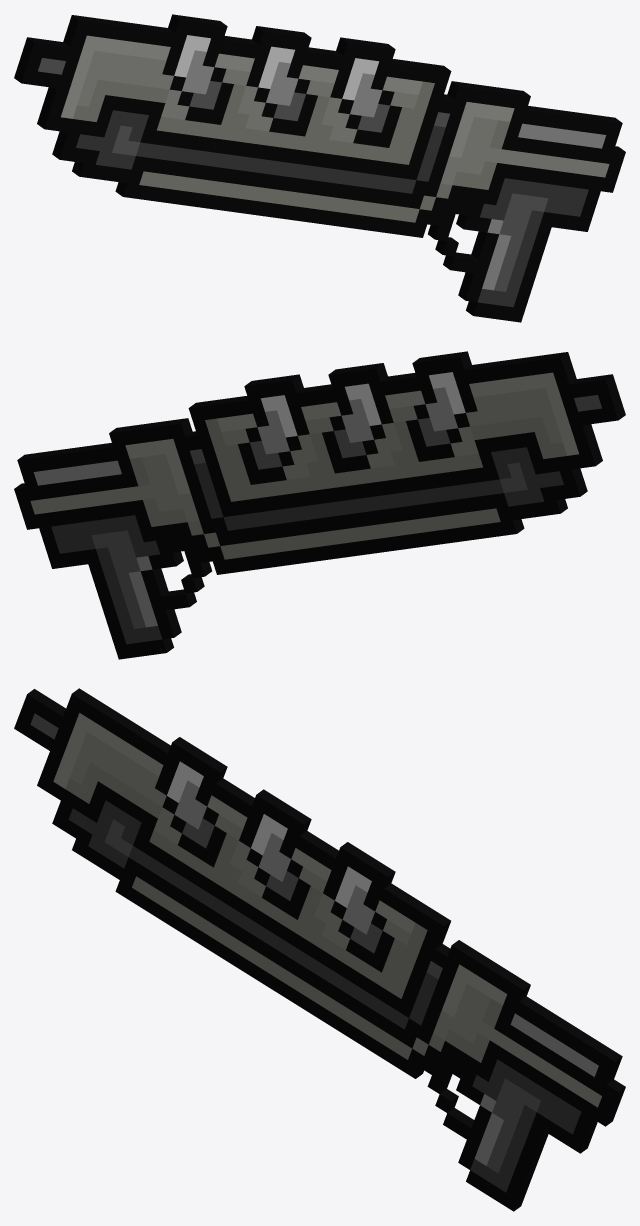
The model's file is Light Grey Paintball Gun.glb.
The picture shows the model from 3 angles, top to bottom: view 1: azimuth 30°, elevation 25°; view 2: azimuth 150°, elevation 25°; view 3: azimuth 330°, elevation 25°; orthographic projection.
Parts seen in each view (by area): view 1: Untitled; view 2: Untitled; view 3: Untitled.
Part boxes in pixels (x1,y1,x2,y2): Untitled: (14, 14, 625, 322); Untitled: (14, 351, 625, 659); Untitled: (14, 688, 625, 1211).
Bounding box in the file's own units: 18.93 × 12.27 × 0.4.
1 material, 1 textured.
